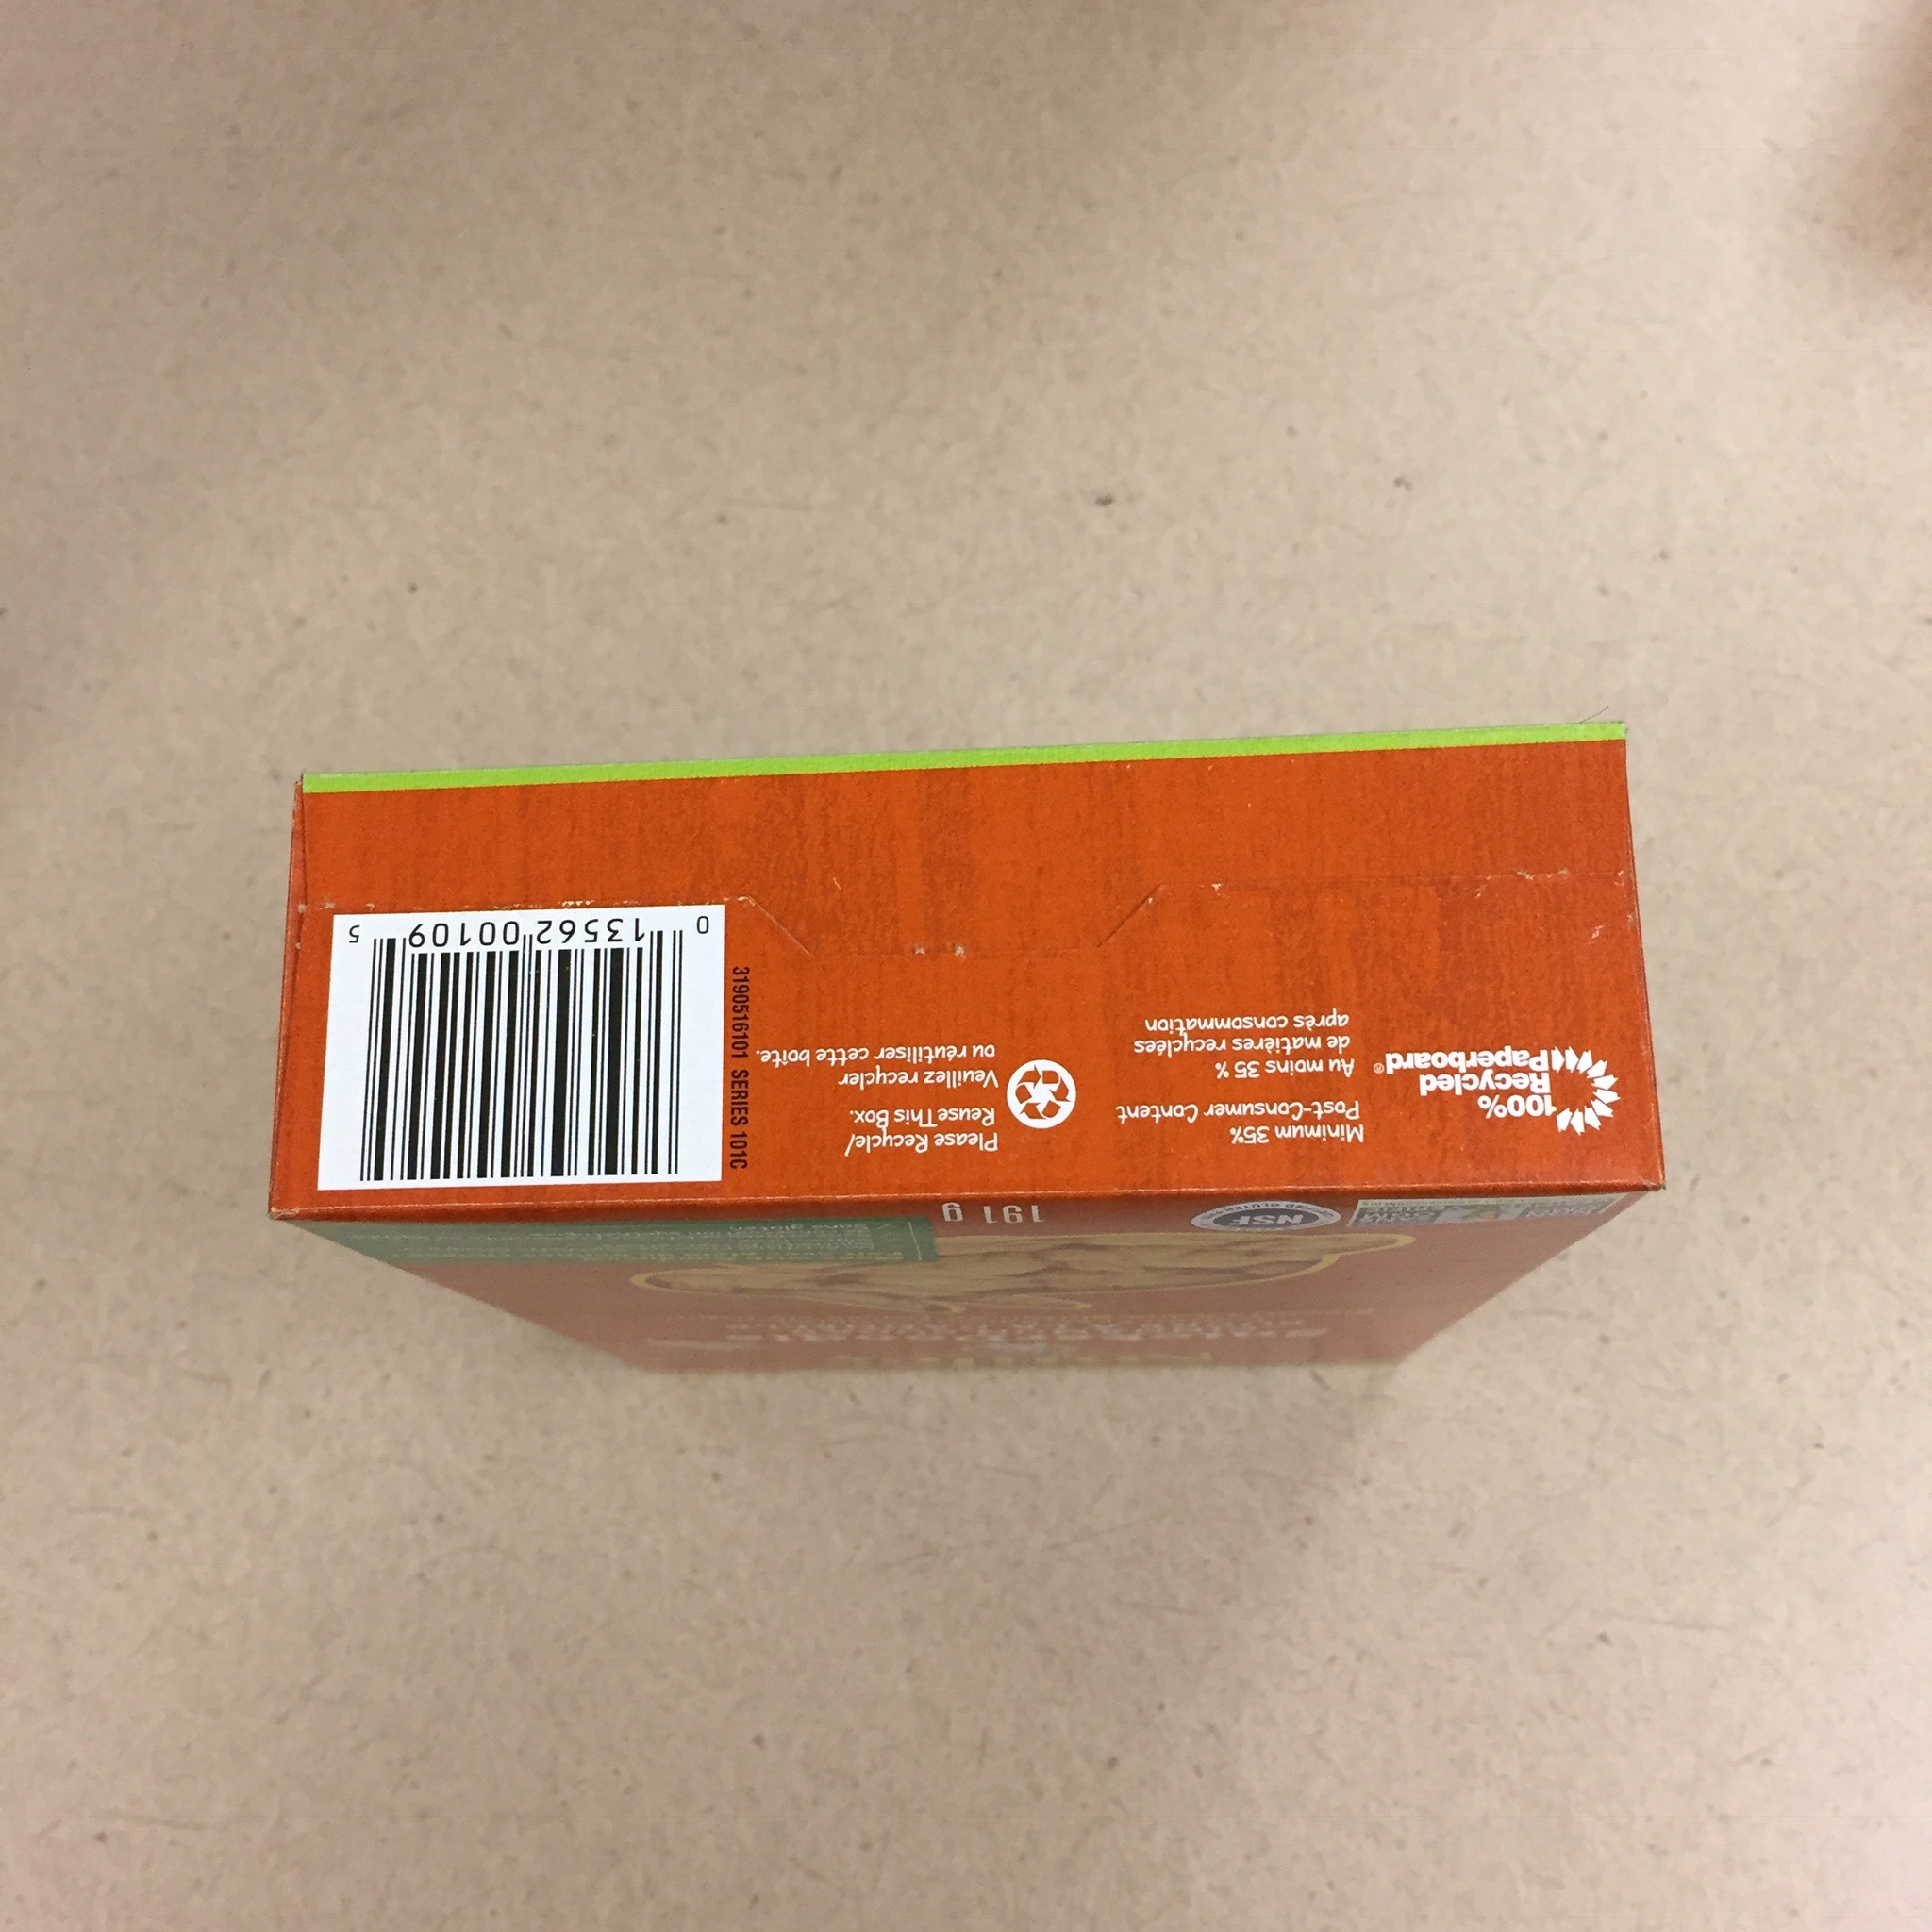annies_snickerdoodle_cinnamon_sugar: (262, 718, 1674, 1380)
